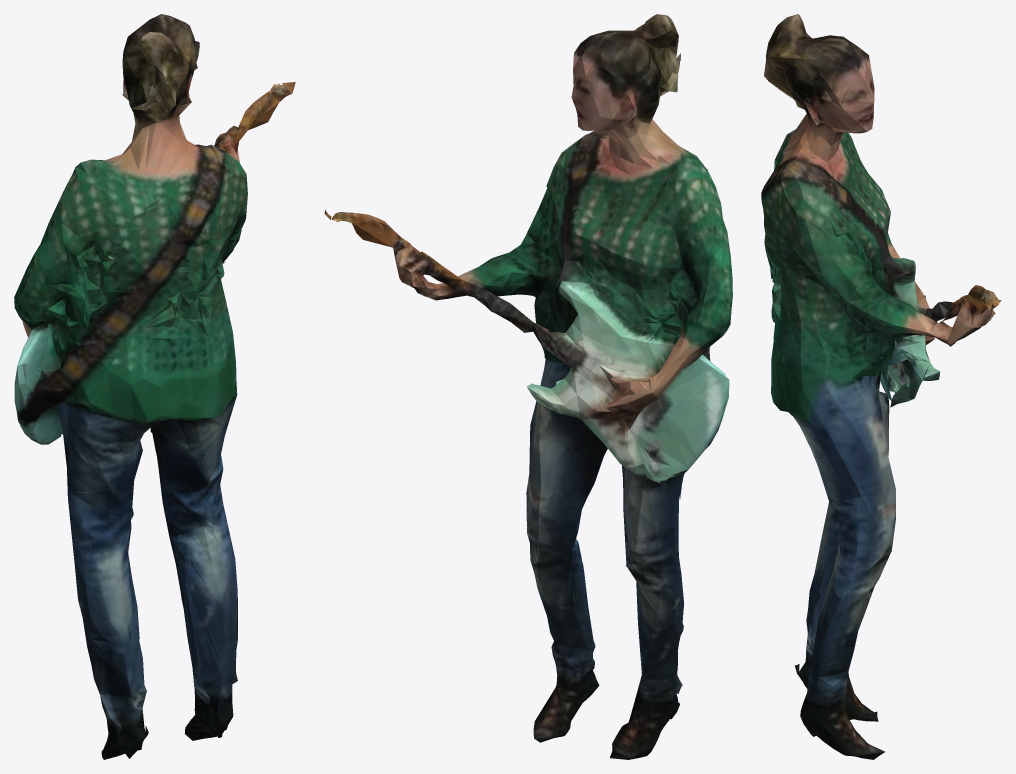
The picture shows the model from 3 angles, left to right: view 1: azimuth 30°, elevation 25°; view 2: azimuth 150°, elevation 25°; view 3: azimuth 270°, elevation 25°; orthographic projection. The views are drawn at different scales.
Parts seen in each view (by area): view 1: dec_0004; view 2: dec_0004; view 3: dec_0004.
Part boxes in pixels (bbox=[...]): dec_0004: bbox=[14, 14, 295, 759]; dec_0004: bbox=[324, 14, 732, 759]; dec_0004: bbox=[761, 14, 1001, 759].
Size of the model in its own units: 0.8401 by 1.72 by 0.5313.
Materials: 1 (1 with a texture image).
